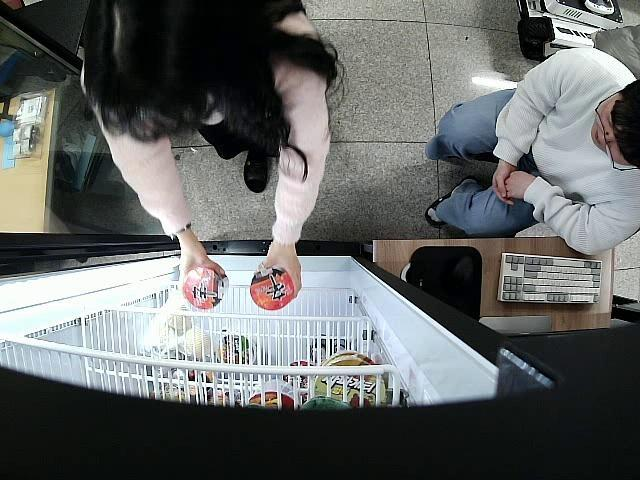02_shinRamen_S: (250, 264, 296, 311), (181, 264, 228, 310)
